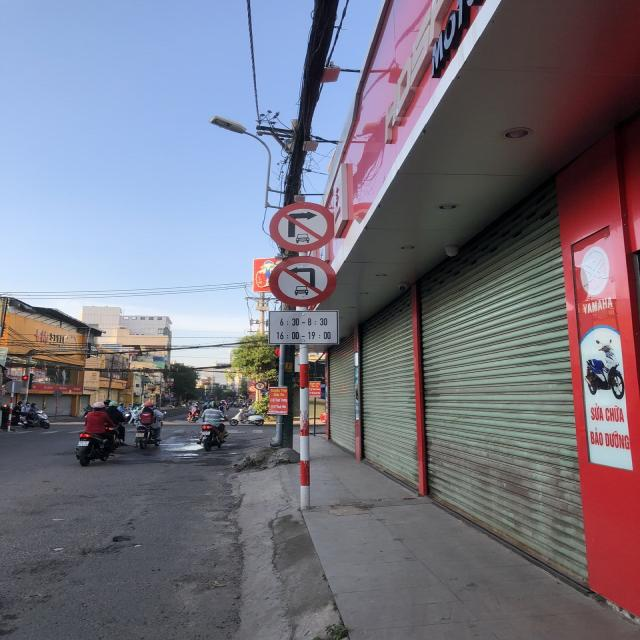Bien bao cam xe o to re phai: (264, 195, 342, 254)
Bien bao cam xe o to re trai: (255, 253, 338, 306)
